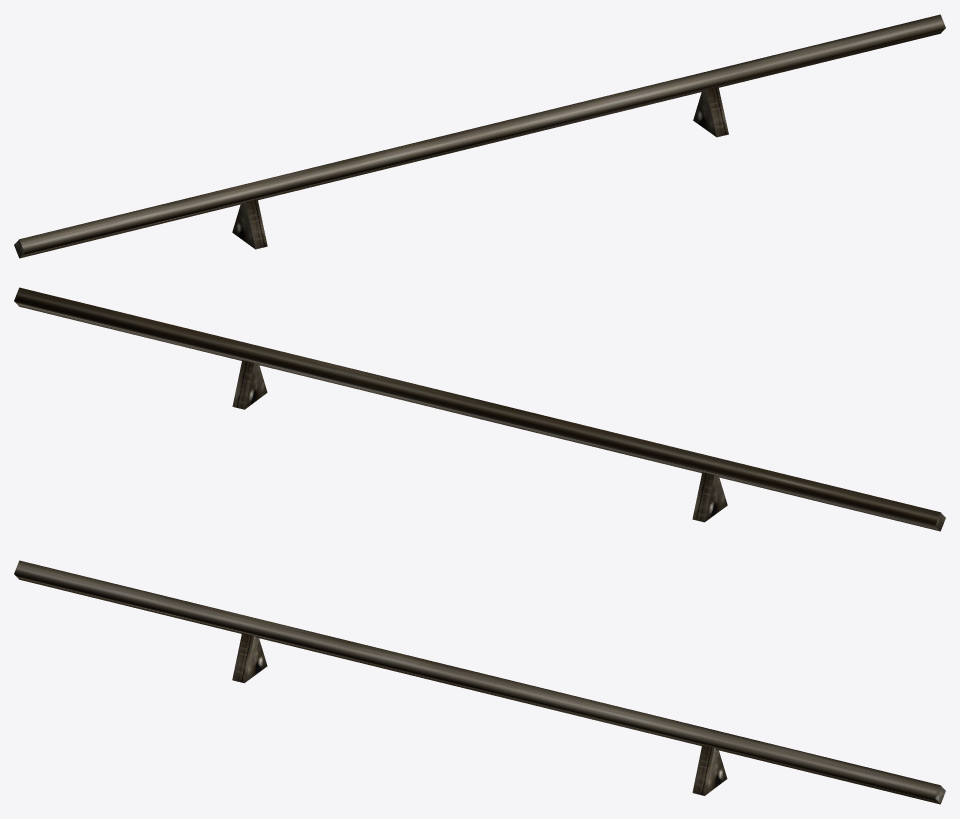
Rendered from light_track_club.fbx.
3 views of the same model, one above another, from view 1: azimuth 30°, elevation 25°; view 2: azimuth 150°, elevation 25°; view 3: azimuth 330°, elevation 25° (orthographic).
Parts seen in each view (by area): view 1: mesh_0; view 2: mesh_0; view 3: mesh_0.
Part boxes in pixels (x1,y1,x2,y2): mesh_0: (14, 14, 945, 258); mesh_0: (14, 287, 945, 531); mesh_0: (14, 560, 945, 804).
Bounding box in the file's own units: 200 × 11.73 × 8.9.
Materials: 1 (1 with a texture image).
